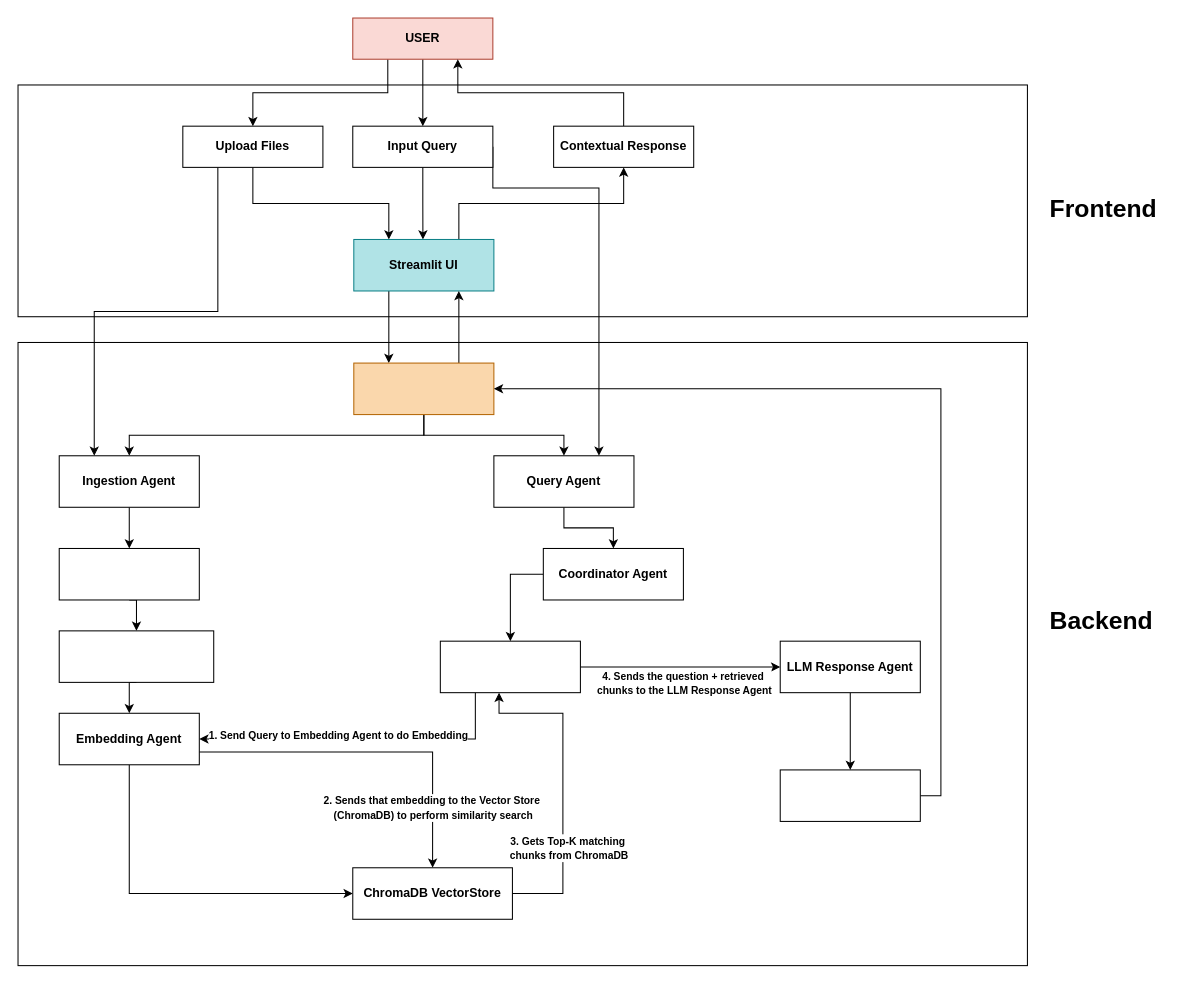
This 1200x984 diagram has some shape labels left out. The shapes that lost their labels are listed below. From the top down, each one's centre as x and y in pixels, then its label:
At (x=423, y=388): "FastAPI".
At (x=128, y=573): "Text Extraction".
At (x=136, y=656): "Processing (Chunking)".
At (x=509, y=666): "Retrieval Agent".
At (x=849, y=795): "Final Response".
